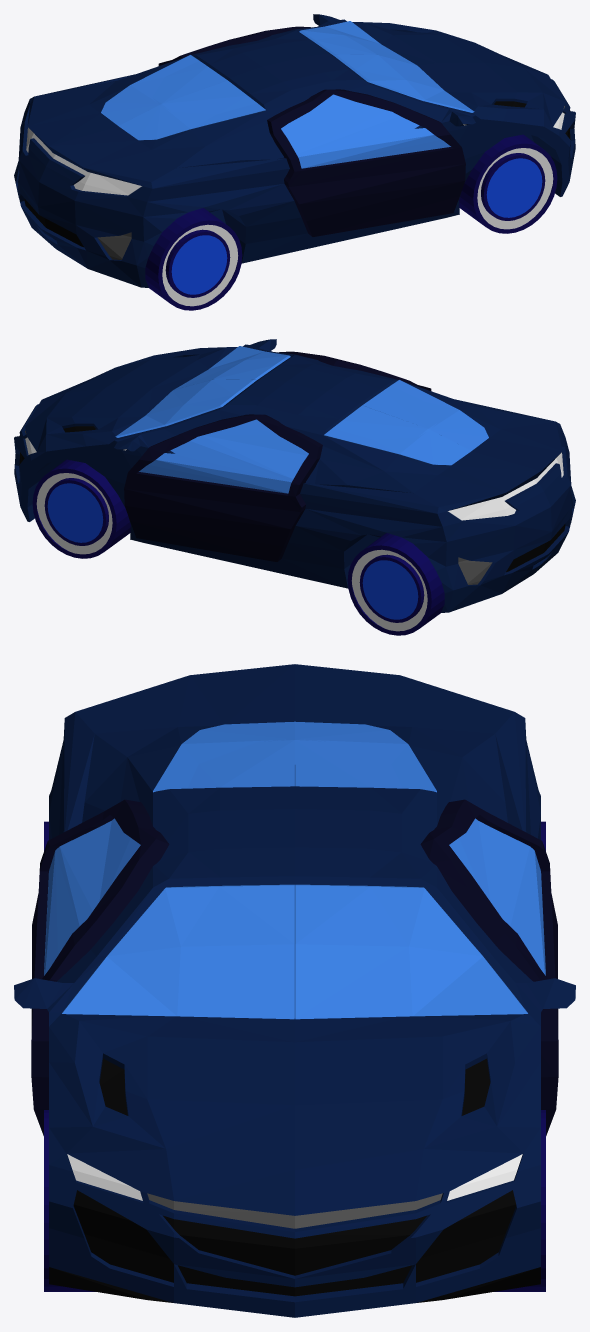
File: avto.fbx
3 views of the same model, one above another, from view 1: azimuth 30°, elevation 25°; view 2: azimuth 150°, elevation 25°; view 3: azimuth 270°, elevation 25° (orthographic). The views are drawn at different scales.
Visible parts, largest first — view 1: car; view 2: car; view 3: car.
Part boxes in pixels (bbox=[...]): car: bbox=[14, 14, 575, 310]; car: bbox=[14, 339, 575, 635]; car: bbox=[14, 664, 575, 1317].
Bounding box in the file's own units: 3043 × 906 × 1515.
